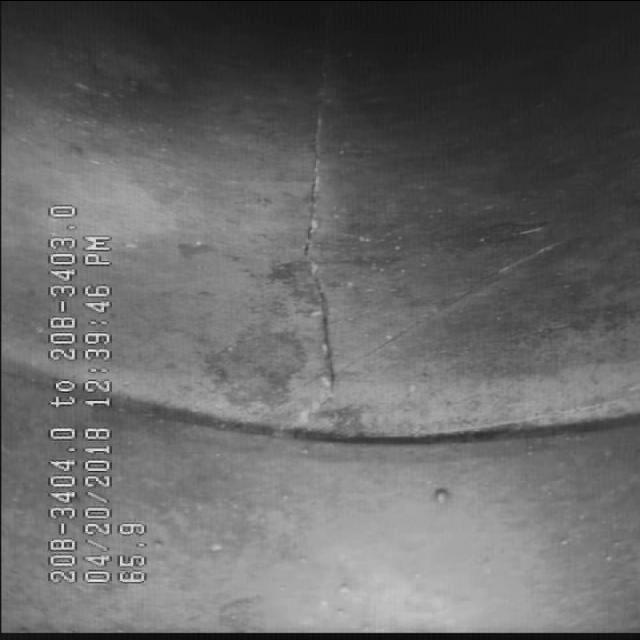Crack: (273, 70, 359, 383)
